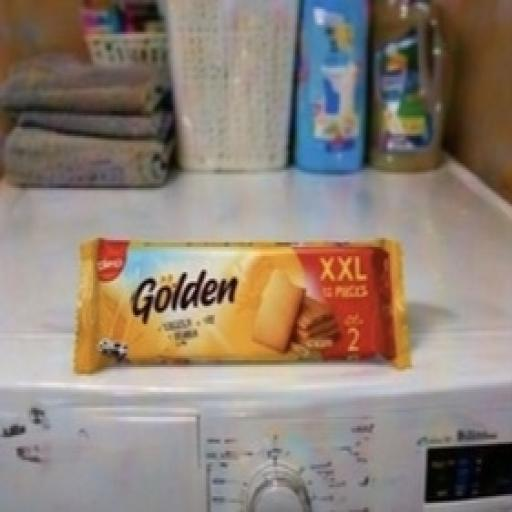golden: (18, 179, 449, 420)
